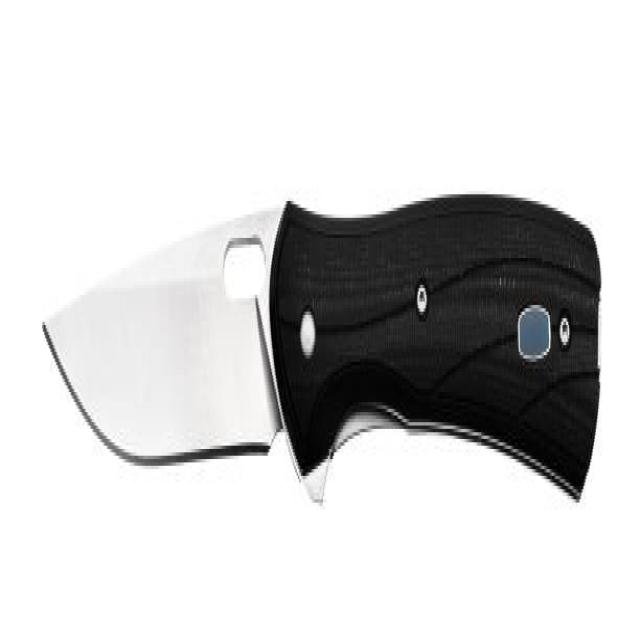knife: (42, 175, 606, 552)
